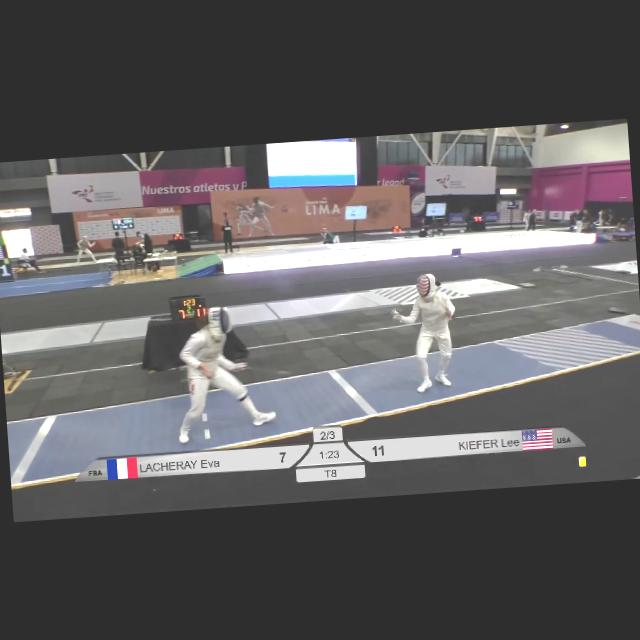blade: (338, 280, 397, 320), (240, 356, 296, 379)
